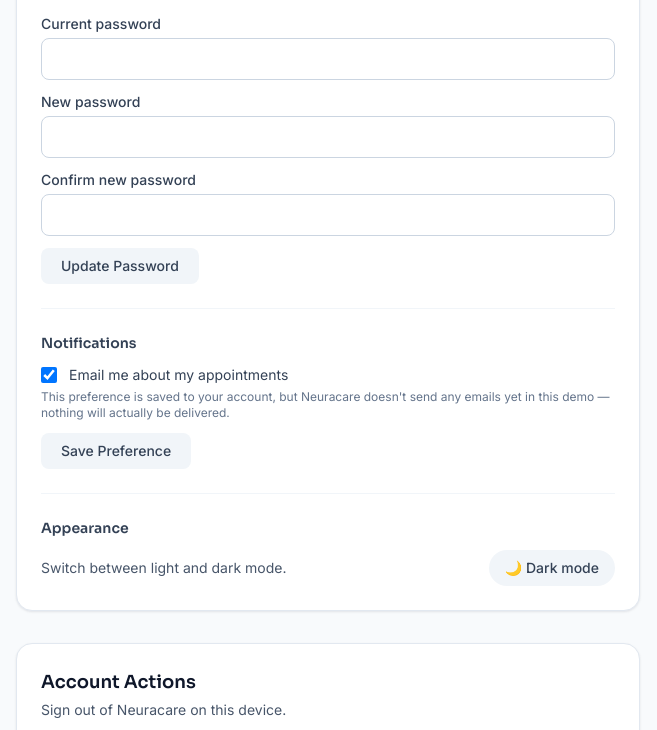
Test: Profile › saves the notification preference
The image size is (657, 730).
(page scrolled)
What coordinates should you click on to do the following:
click the checkbox labelled "Email me about my appointments"
I would click on:
 (49, 375)
Its box is [41,367,57,383].
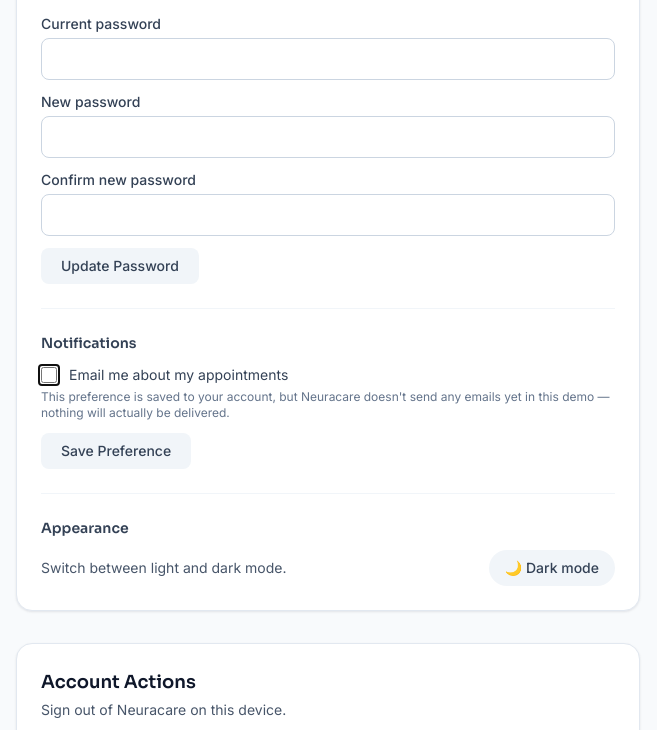
What coordinates should you click on to do the following:
click the button "Save Preference"
I would click on:
 (116, 451)
Its box is [41,433,191,469].
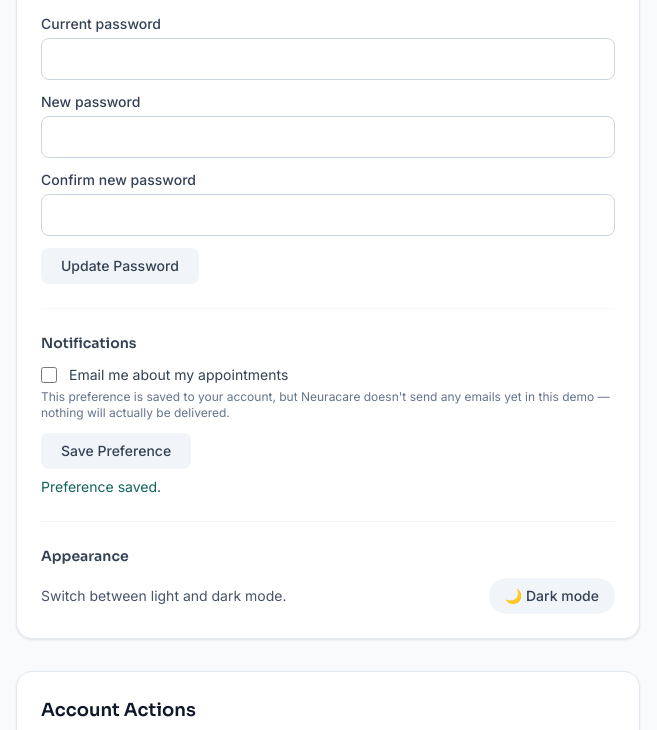
Result: the text "Preference saved." is shown at [41,478,161,495]
